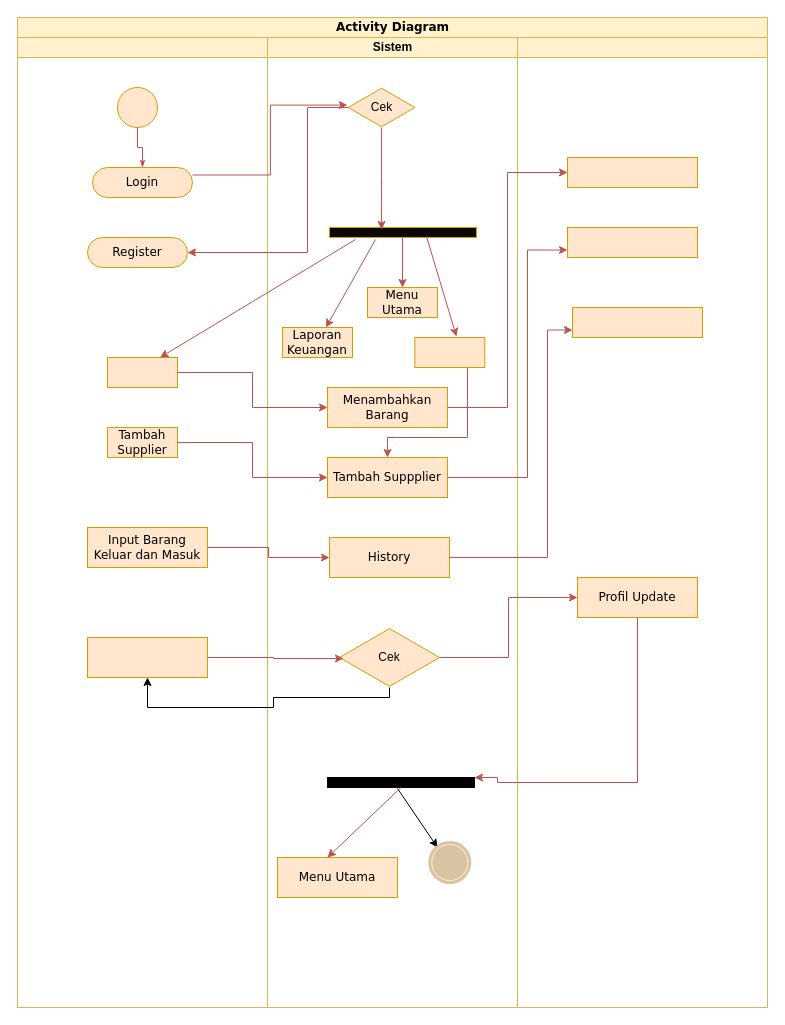
The diagram is 785 pixels wide and 1025 high, and some of its shapes have lost their labels. Each missing label, with the box of its shape:
Barang Ditambahkan: (566, 156, 698, 188)
DB: (516, 36, 768, 1008)
Pemakai Sistem: (16, 36, 268, 1008)
Settings Profil: (86, 636, 208, 678)
Stok: (572, 306, 702, 338)
Supplier: (414, 336, 485, 368)
Supplier Ditambahkan: (566, 226, 698, 258)
Tambah Barang: (106, 356, 178, 388)
